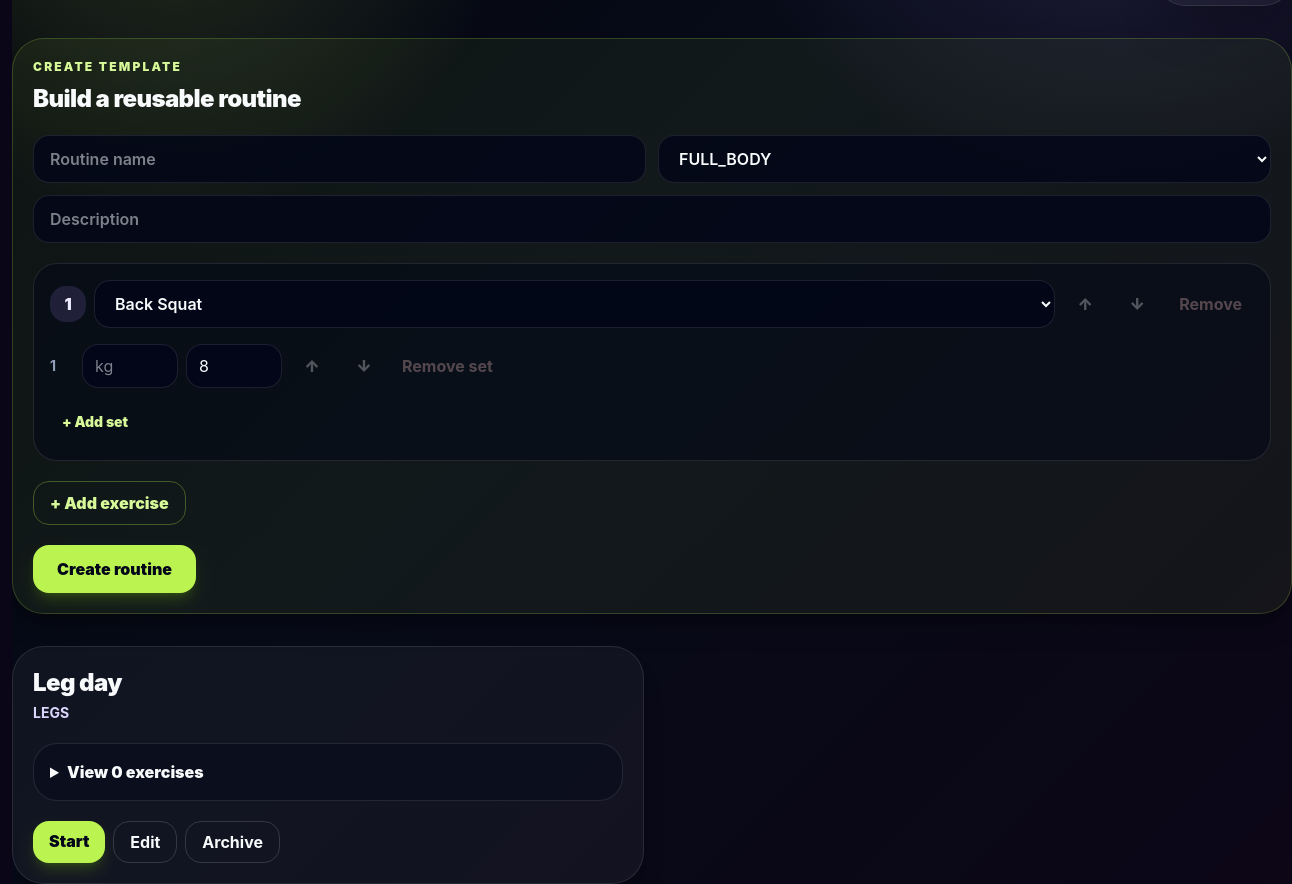
Test: RoutineManager › archives before exposing permanent deletion
(page scrolled)
Click the button "Archive" at [233, 842], box [185,821,280,863]
(page scrolled)
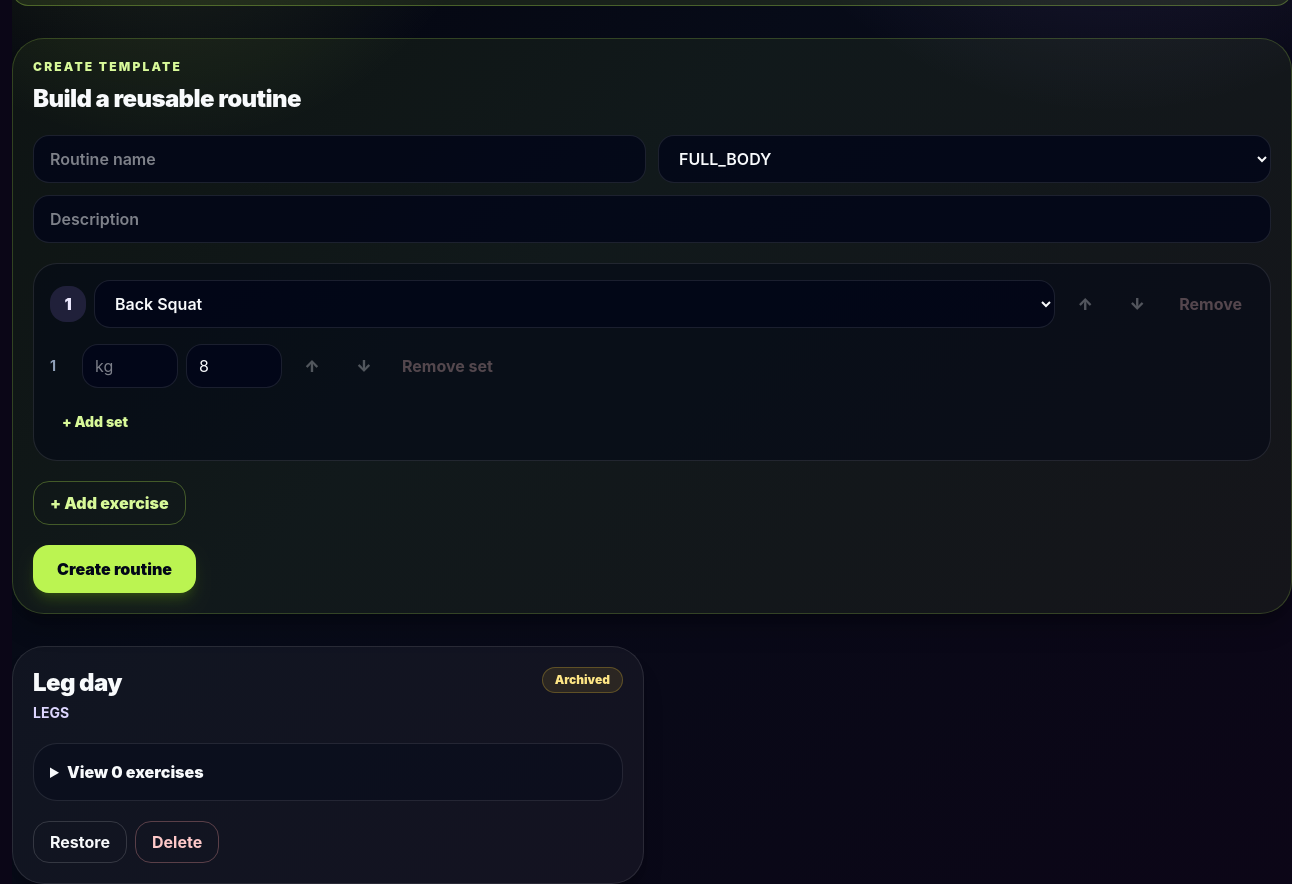
Expected: the button "Delete" is shown, [135,821,219,863]
